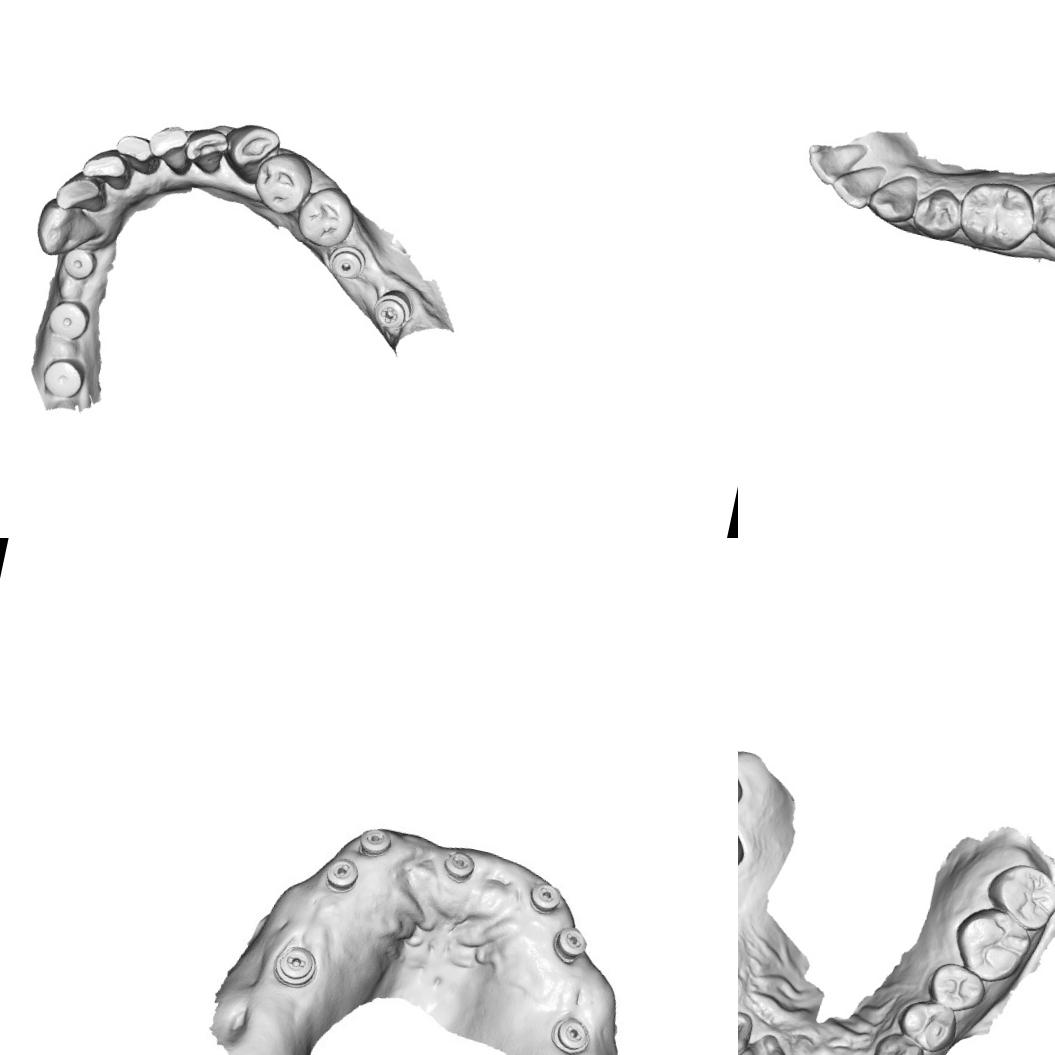canine: (28, 195, 110, 267), (218, 118, 282, 187), (864, 167, 922, 228), (868, 1028, 930, 1055)
implant: (37, 353, 89, 403), (43, 296, 94, 345), (324, 239, 370, 287), (57, 246, 102, 284)
implant_minus: (269, 939, 319, 993), (548, 1012, 595, 1055), (552, 920, 593, 966), (527, 878, 565, 916), (322, 854, 358, 892), (442, 847, 476, 882), (357, 823, 393, 855)
implant_plus: (367, 287, 413, 335)
incisor: (803, 133, 868, 192), (142, 116, 201, 178), (827, 156, 887, 214), (50, 168, 113, 221), (76, 144, 136, 196), (182, 120, 230, 180), (106, 130, 162, 178), (738, 1027, 795, 1055), (738, 1003, 755, 1055)
molar: (946, 900, 1039, 990), (980, 857, 1055, 935), (1021, 171, 1055, 259)
premolar: (952, 173, 1041, 257), (250, 146, 318, 220), (293, 180, 360, 254), (892, 993, 961, 1055), (906, 182, 968, 244), (924, 959, 991, 1016)
